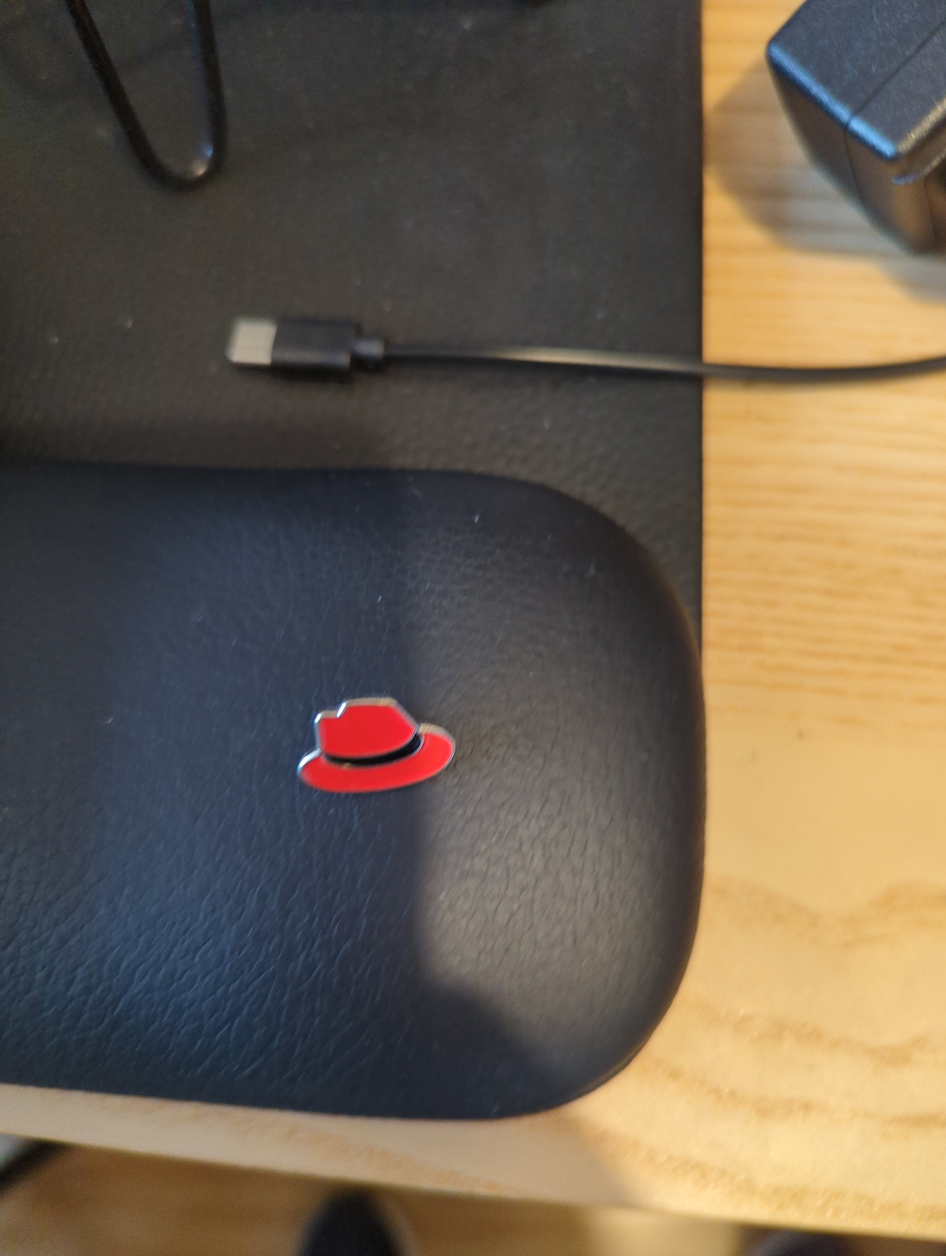Red-Hat: (214, 647, 599, 910)
